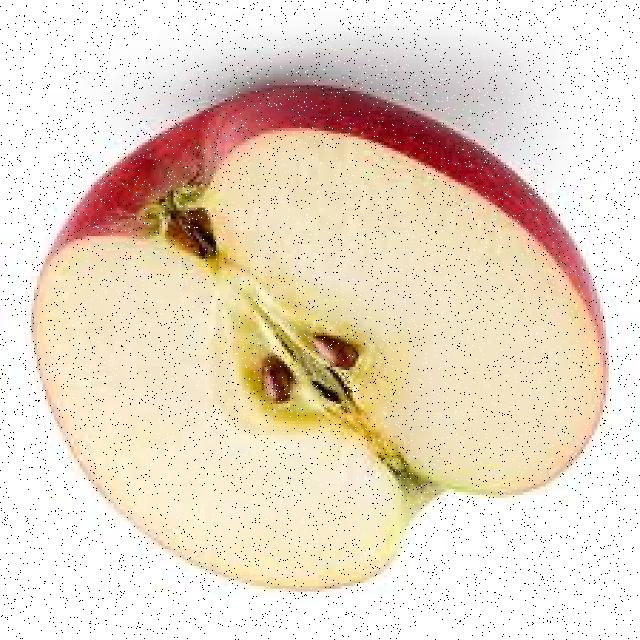Apple: (30, 92, 604, 599)
